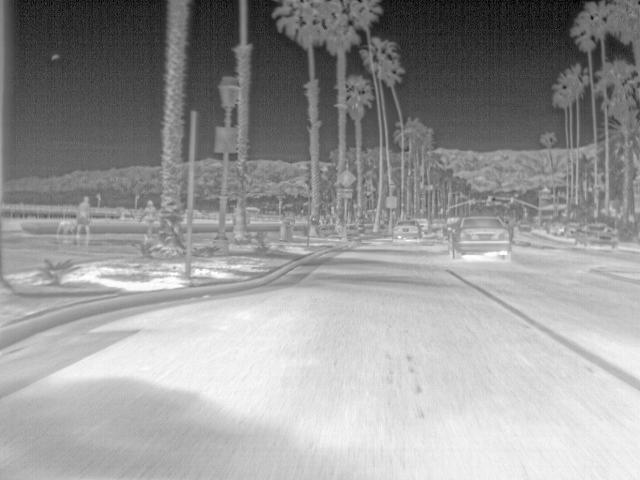car: (450, 214, 513, 257), (575, 222, 621, 250), (392, 219, 424, 239), (564, 221, 583, 238), (431, 218, 448, 234), (517, 220, 533, 234)
dog: (55, 220, 79, 236)
person: (72, 195, 94, 239), (140, 196, 159, 238)
